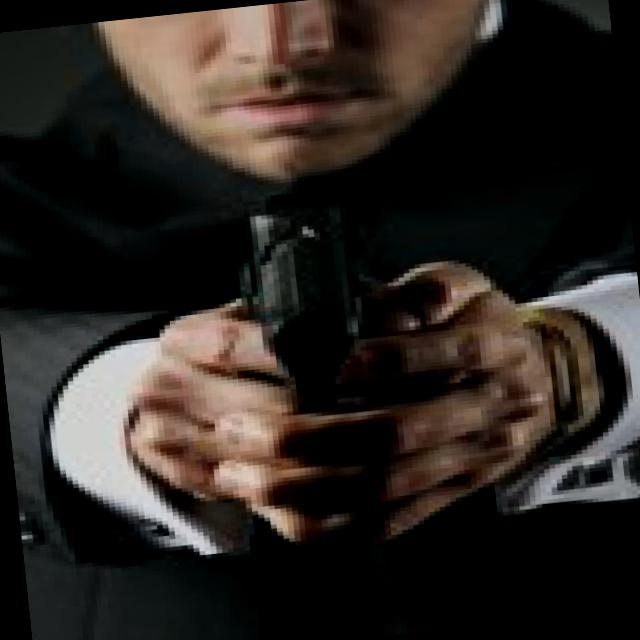handgun: (207, 170, 390, 444)
